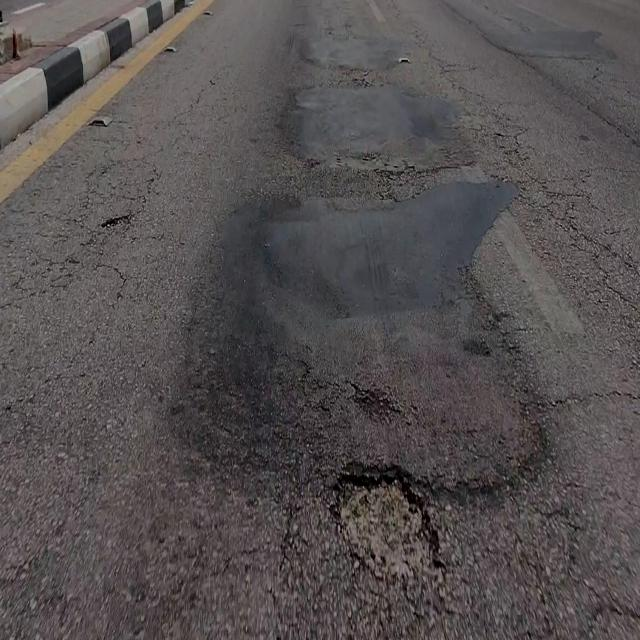Potholes: (333, 475, 441, 580)
